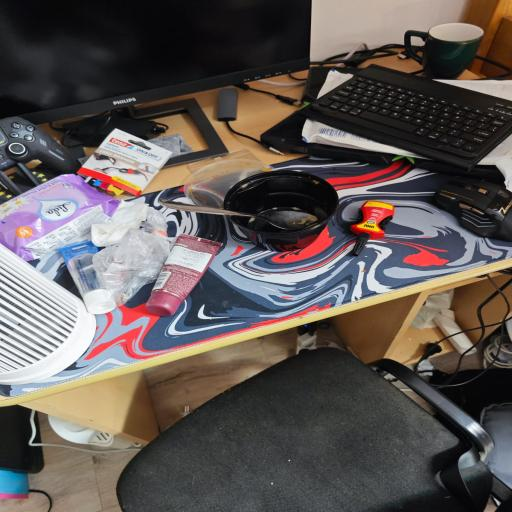Hand Cream: (143, 235, 231, 316)
Super Glue: (350, 198, 396, 257)
